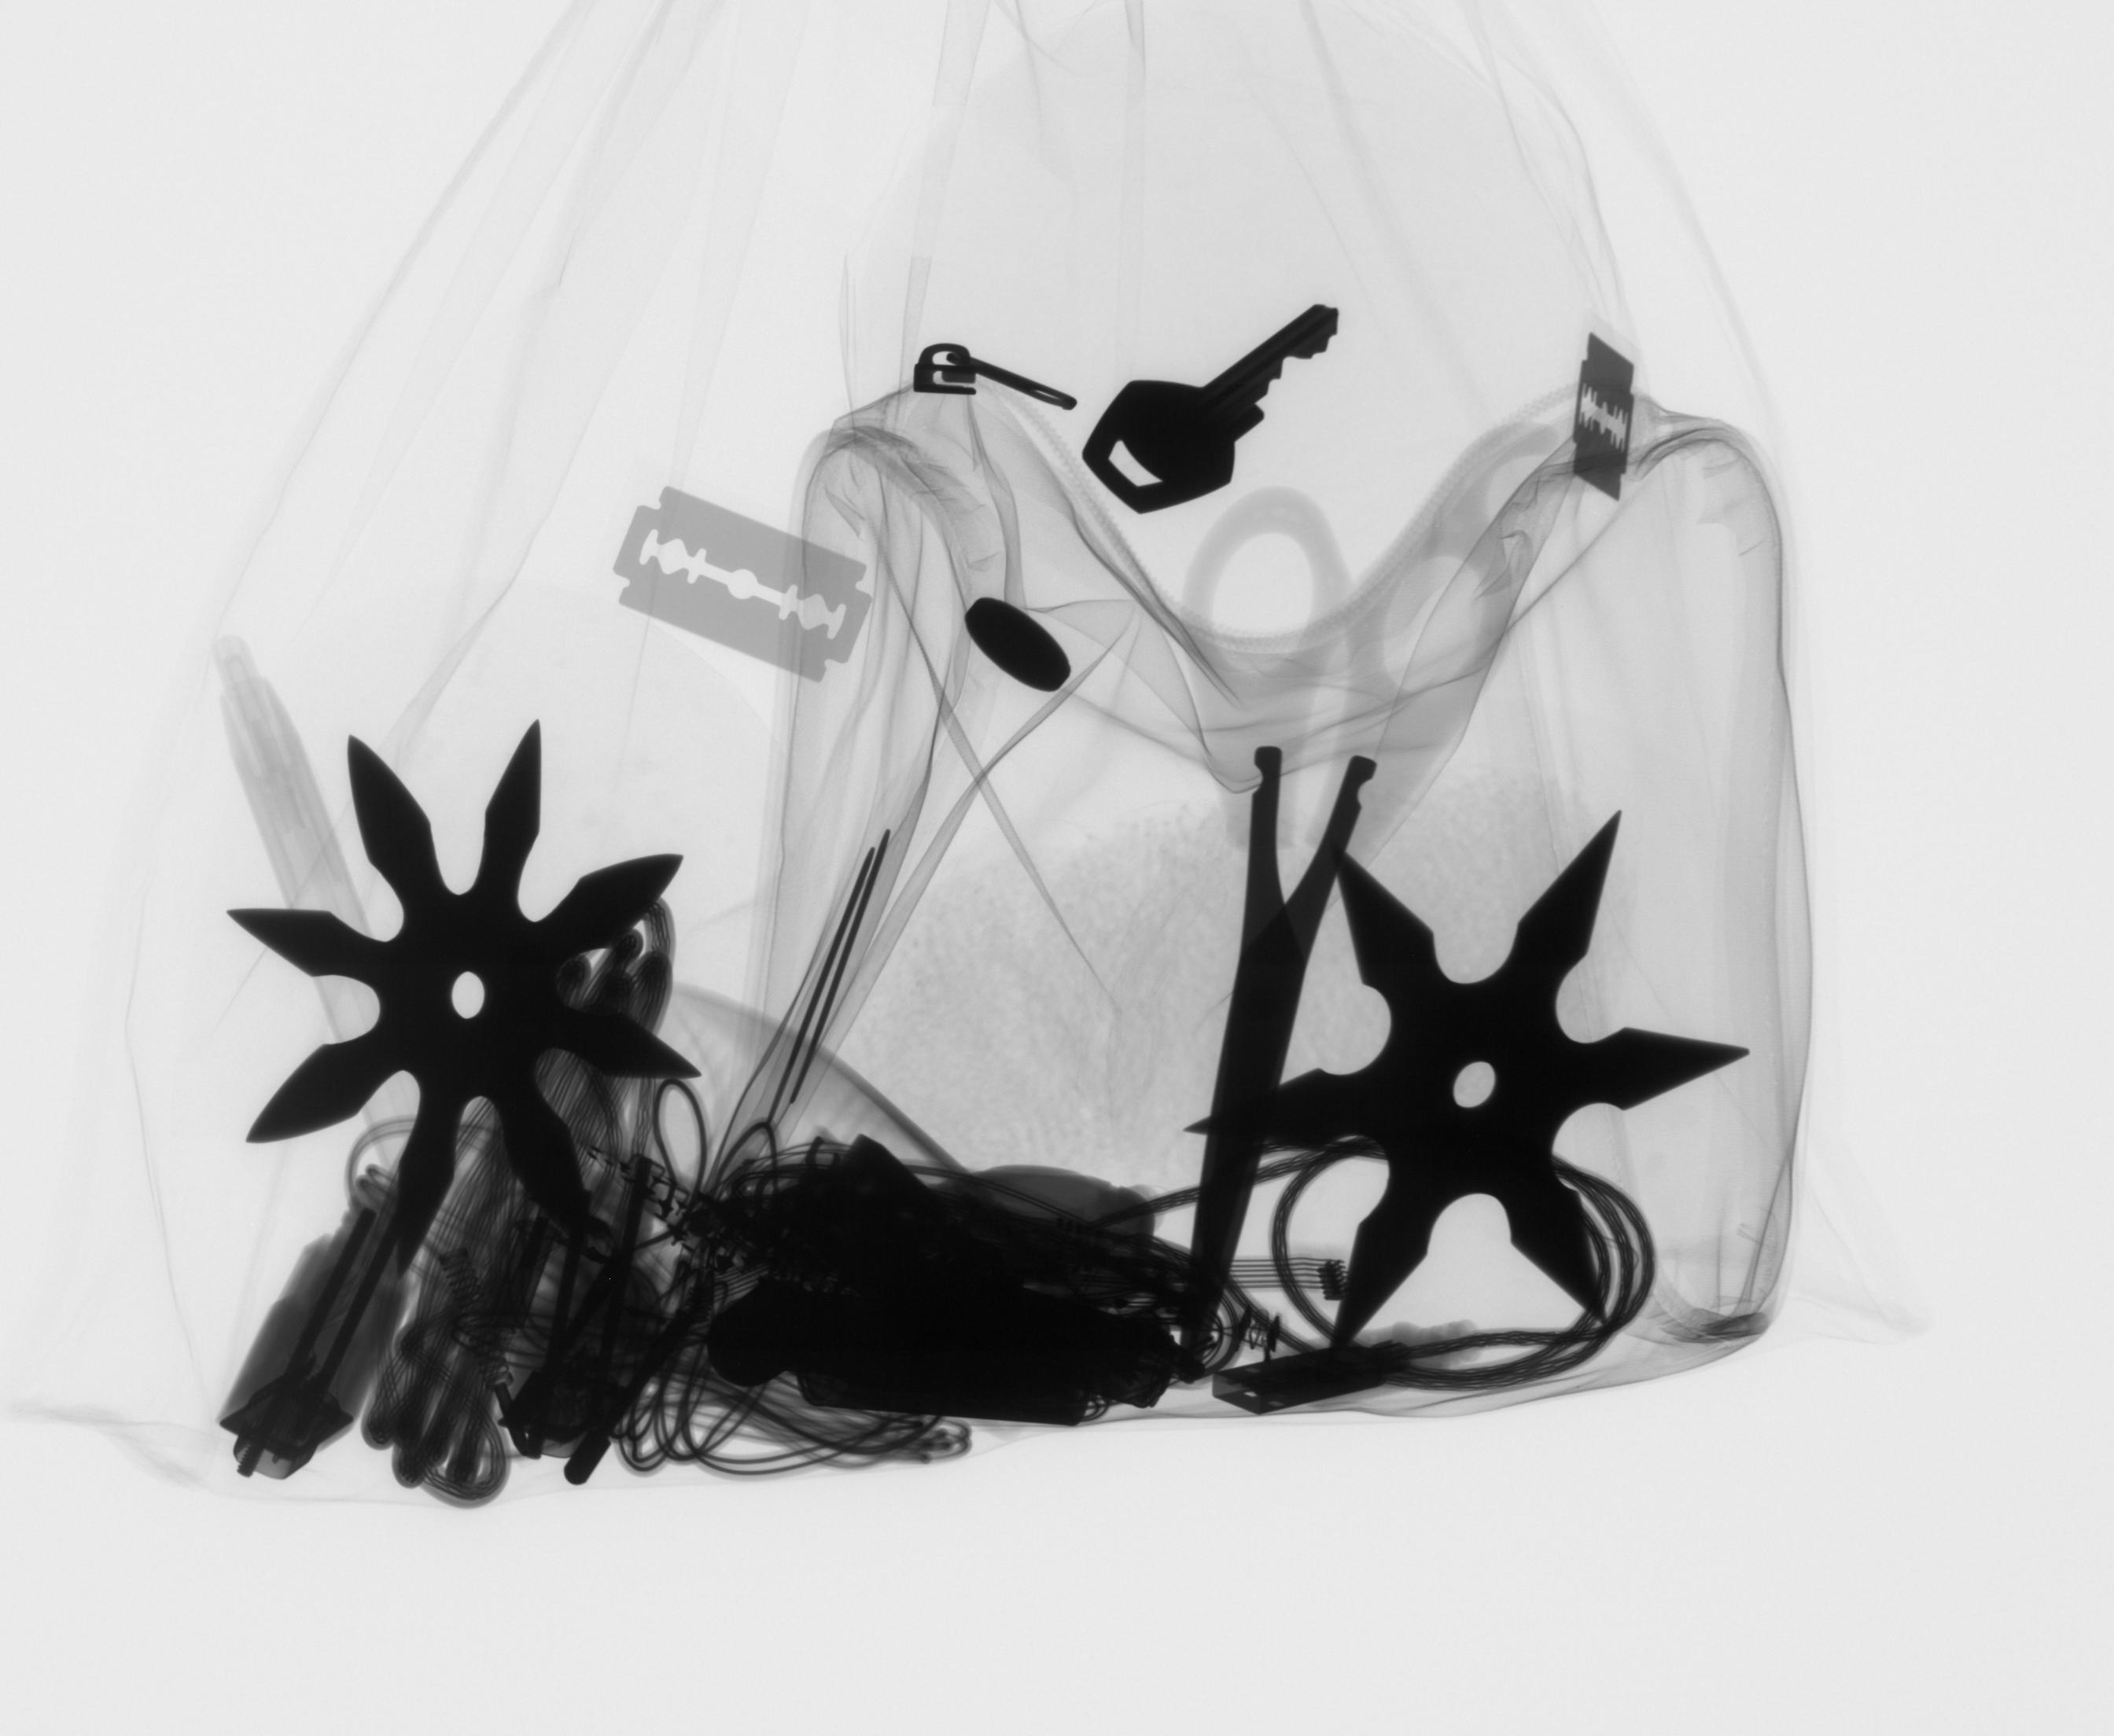RazorBlade: (604, 477, 883, 692), (1563, 325, 1647, 507)
Shuriken: (1176, 806, 1761, 1378), (214, 706, 716, 1290)
